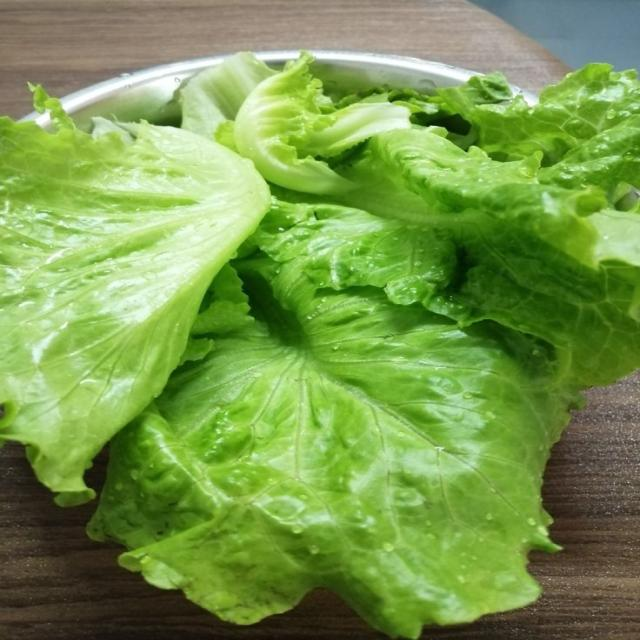lettuce: (25, 55, 639, 637), (0, 119, 269, 503)
